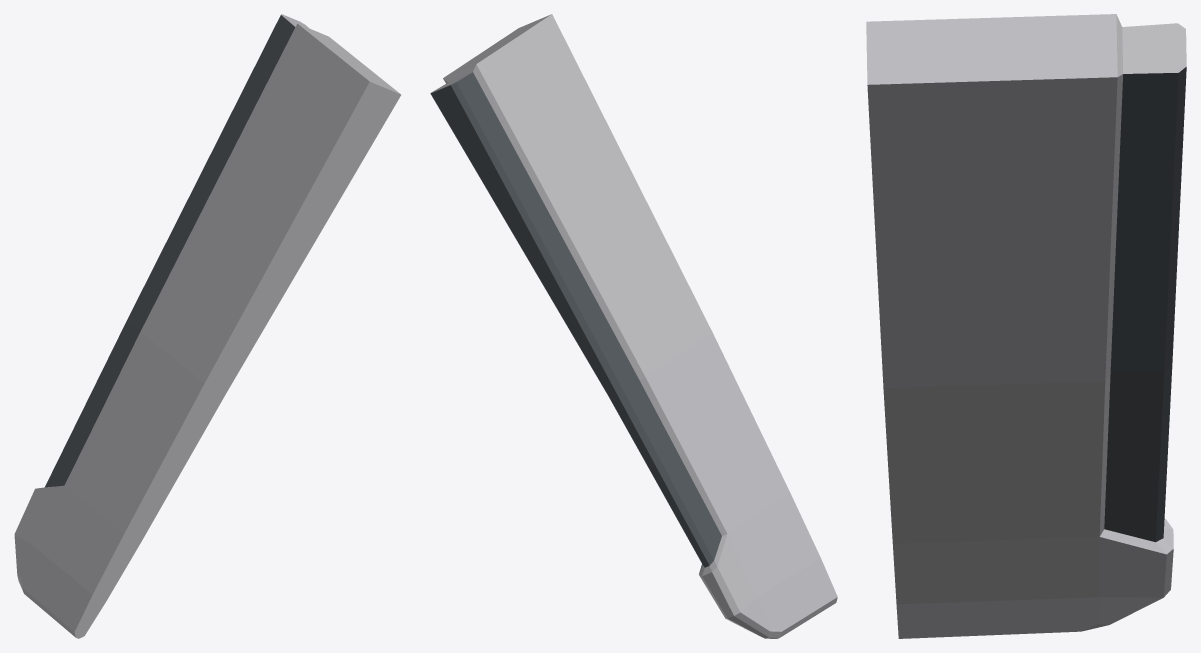
Rendered from Fighter_06_Auxillary_Wing_Right.fbx.
The picture shows the model from 3 angles, left to right: view 1: azimuth 30°, elevation 25°; view 2: azimuth 150°, elevation 25°; view 3: azimuth 270°, elevation 25°; orthographic projection. The views are drawn at different scales.
Parts seen in each view (by area): view 1: Fighter_06_Auxillary_Wing_Right; view 2: Fighter_06_Auxillary_Wing_Right; view 3: Fighter_06_Auxillary_Wing_Right.
Boxes of the visible parts, x1,y1,x2,y2 form: Fighter_06_Auxillary_Wing_Right: [14, 14, 400, 638]; Fighter_06_Auxillary_Wing_Right: [430, 14, 837, 638]; Fighter_06_Auxillary_Wing_Right: [866, 14, 1186, 638].
Bounding box in the file's own units: 276 × 414 × 140.
1 material, 1 textured.
